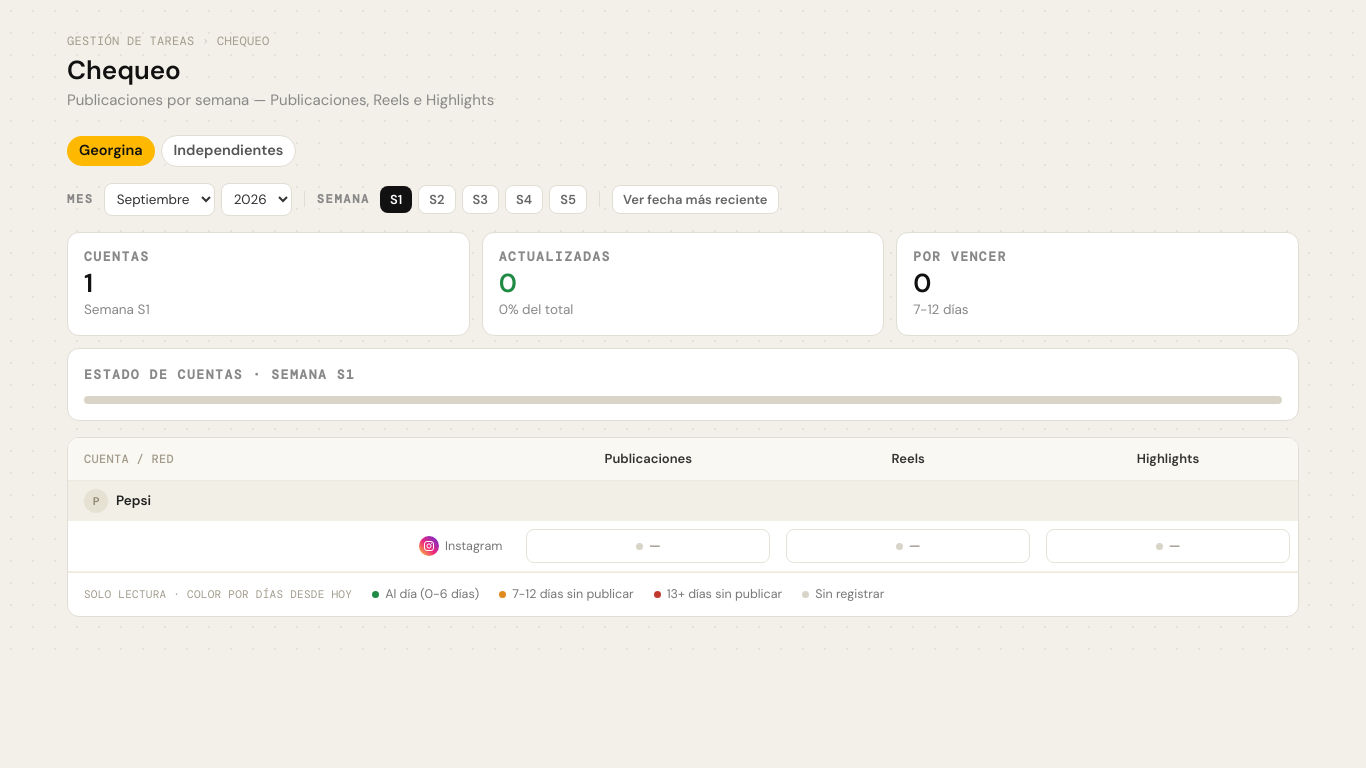
ChequeoPage — team "Independientes" para cuentas sin línea › al elegir "Independientes" se ve la cuenta sin línea
Click the button "Independientes".
click(228, 151)  # box [160,135,296,167]
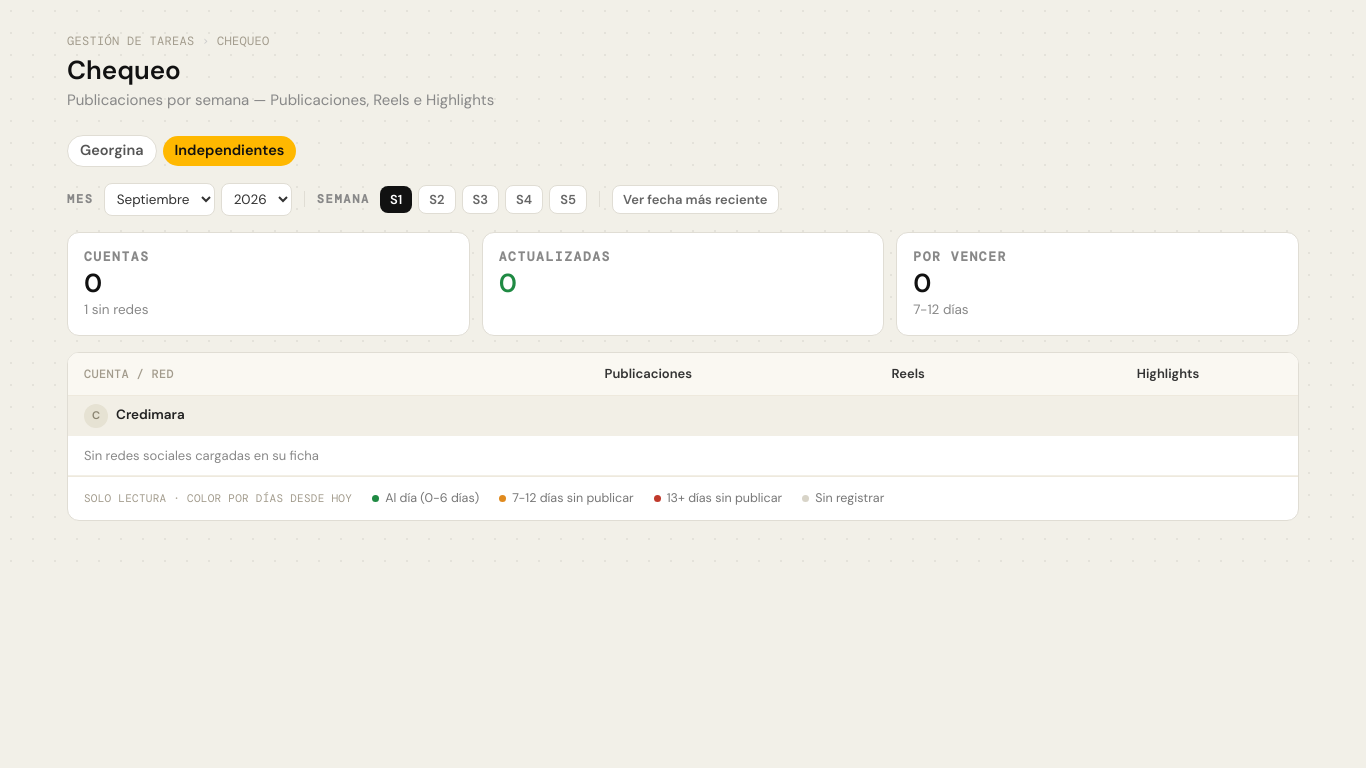
expect the text "Credimara" is shown: met, box [116,407,185,424]
